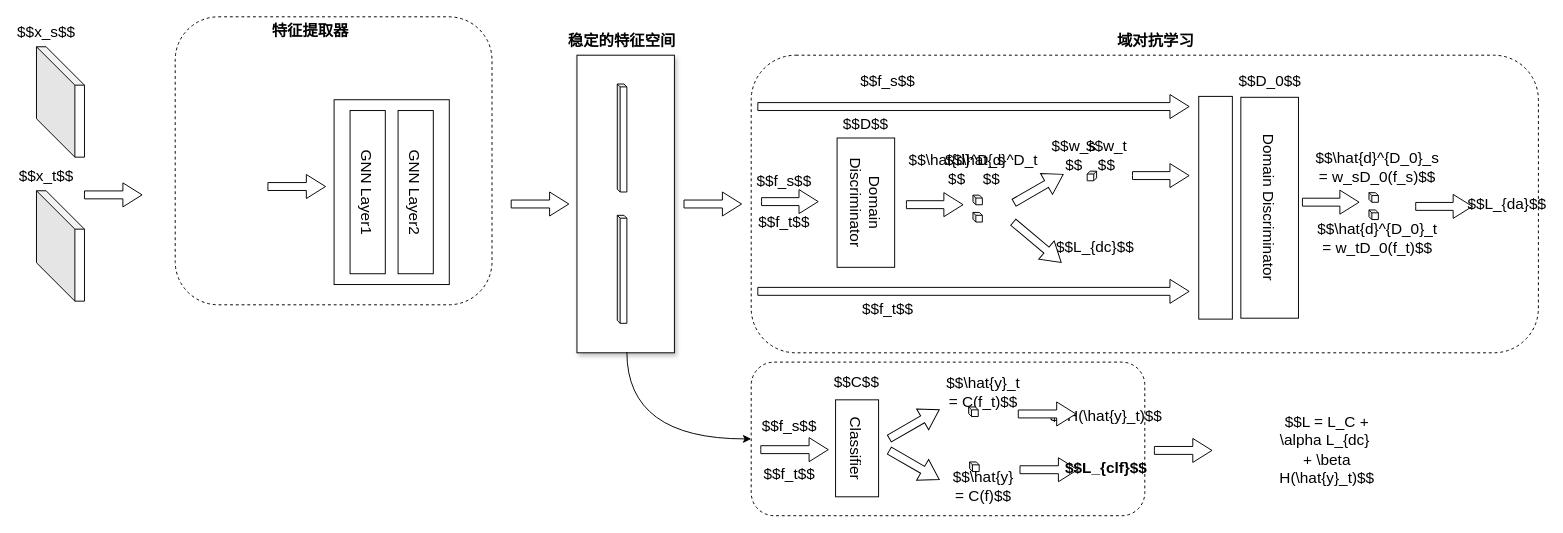
This 1563x533 diagram has some shape labels left out. The centre of each missing label's shape, as x and y in pixels:
"$$f_t = F(x_t)$$" belongs at [626,205].
"GRL" belongs at [1215,207].
